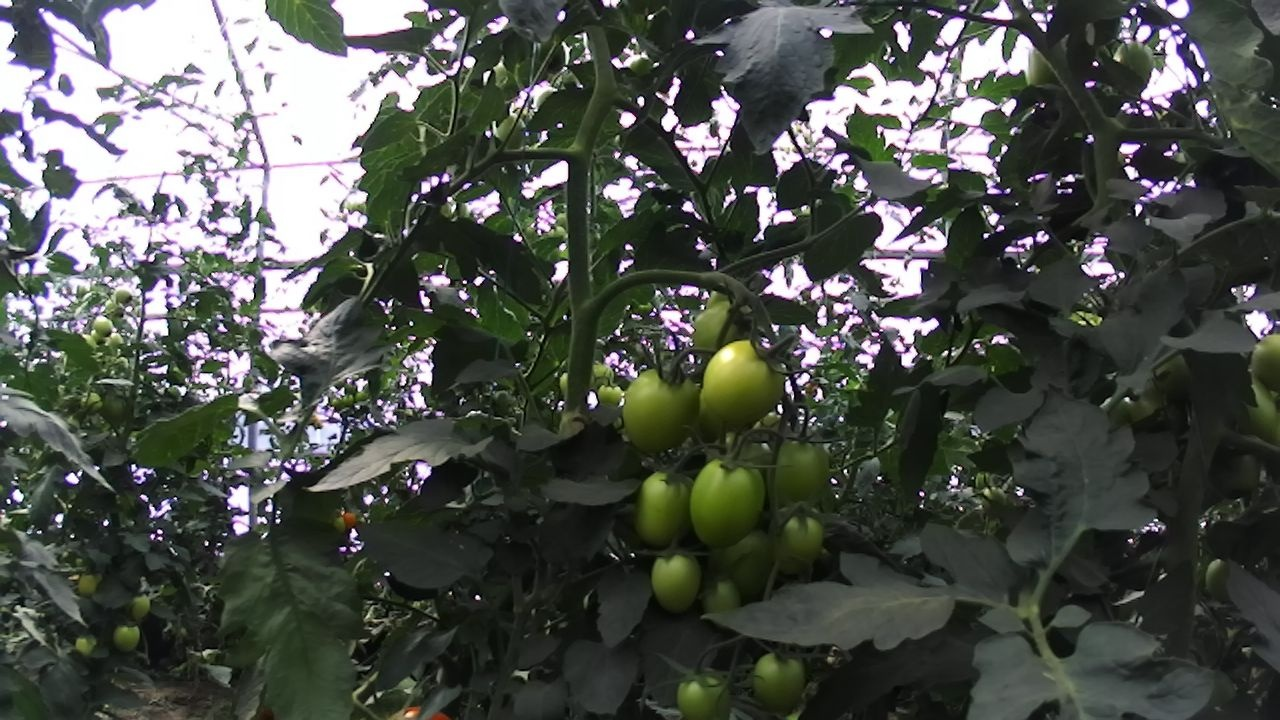tomato: (693, 326, 803, 440), (676, 443, 779, 561), (668, 276, 773, 389), (614, 353, 709, 461), (755, 420, 842, 523), (622, 458, 711, 557), (698, 514, 785, 606), (759, 490, 834, 587), (642, 535, 714, 623), (746, 640, 821, 720), (1102, 26, 1169, 101), (669, 657, 744, 720), (689, 566, 757, 633), (1195, 553, 1250, 610), (489, 108, 536, 154), (580, 354, 622, 396), (119, 588, 158, 627), (109, 618, 147, 658), (593, 377, 625, 411), (72, 628, 102, 663), (74, 388, 110, 417), (73, 568, 103, 601), (101, 293, 128, 324), (92, 311, 116, 340), (87, 323, 110, 348), (106, 327, 128, 351), (329, 514, 351, 536), (112, 285, 135, 306), (341, 509, 360, 530)
